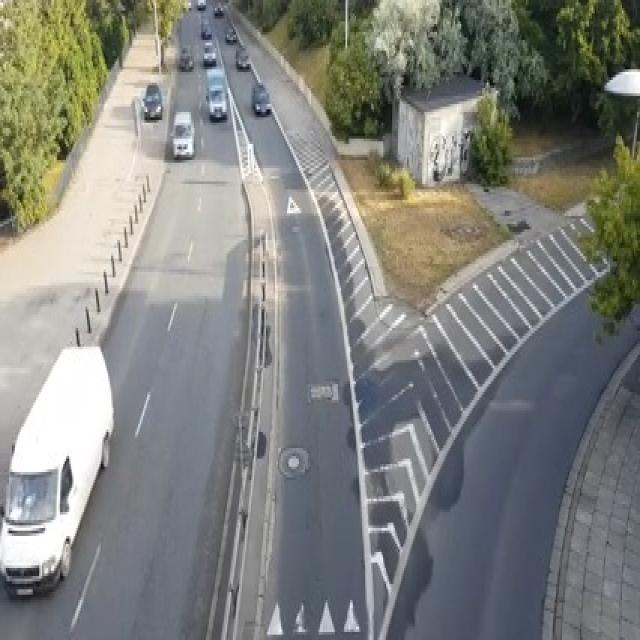bus: (0, 339, 114, 597)
car: (204, 67, 227, 120), (171, 110, 194, 158), (141, 83, 162, 120), (251, 82, 270, 114), (286, 195, 300, 232), (234, 48, 251, 69), (179, 46, 192, 70), (203, 40, 216, 64), (225, 24, 236, 43), (200, 19, 210, 37), (214, 3, 222, 16), (197, 0, 206, 8), (188, 0, 191, 11)
